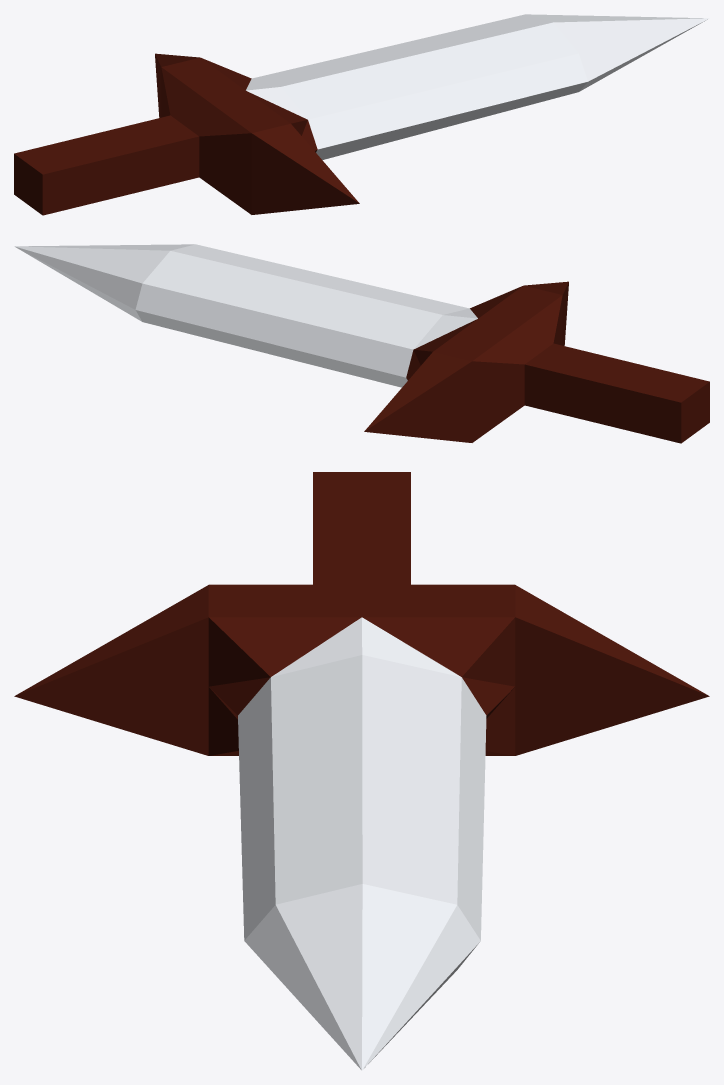
Rendered from woodsman_weapon_melee.glb.
3 renders of one model, top to bottom at view 1: azimuth 30°, elevation 25°; view 2: azimuth 150°, elevation 25°; view 3: azimuth 270°, elevation 25°, orthographic. The views are drawn at different scales.
Parts seen in each view (by area): view 1: woodsman_weapon_melee; view 2: woodsman_weapon_melee; view 3: woodsman_weapon_melee.
Boxes of the visible parts, box(x1,y1,x2,y2) form: woodsman_weapon_melee: box(14, 14, 709, 215); woodsman_weapon_melee: box(14, 244, 709, 443); woodsman_weapon_melee: box(14, 472, 709, 1070).
Size of the model in its own units: 1.77 by 0.2037 by 0.9251.
Materials: 1 (1 with a texture image).
